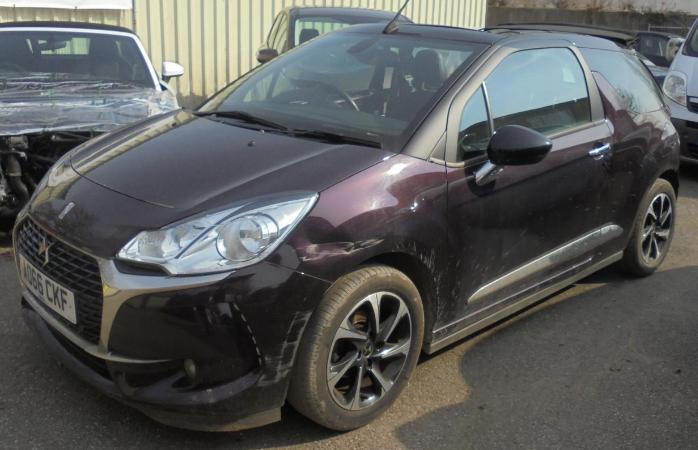Dent: (161, 275, 259, 369), (285, 214, 382, 267)
Scratch: (298, 239, 384, 262), (280, 311, 313, 369), (275, 311, 299, 384), (306, 242, 349, 254), (255, 374, 274, 388), (280, 380, 290, 406), (361, 238, 379, 245), (346, 242, 354, 249), (265, 356, 278, 360), (303, 296, 309, 303), (205, 388, 214, 392), (191, 396, 198, 401), (209, 398, 217, 402), (355, 241, 362, 244), (265, 362, 275, 364), (229, 392, 234, 394)
